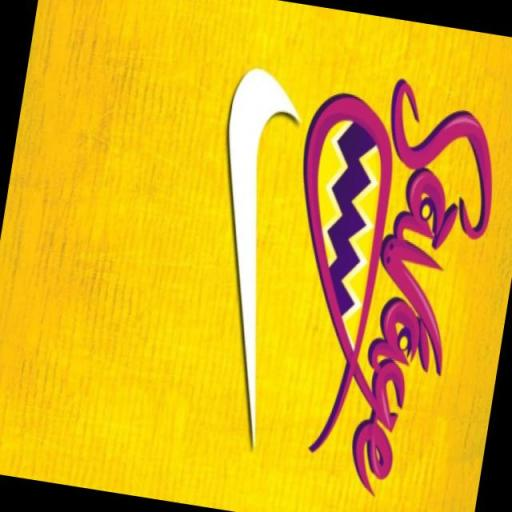Nike: (164, 48, 322, 457)
